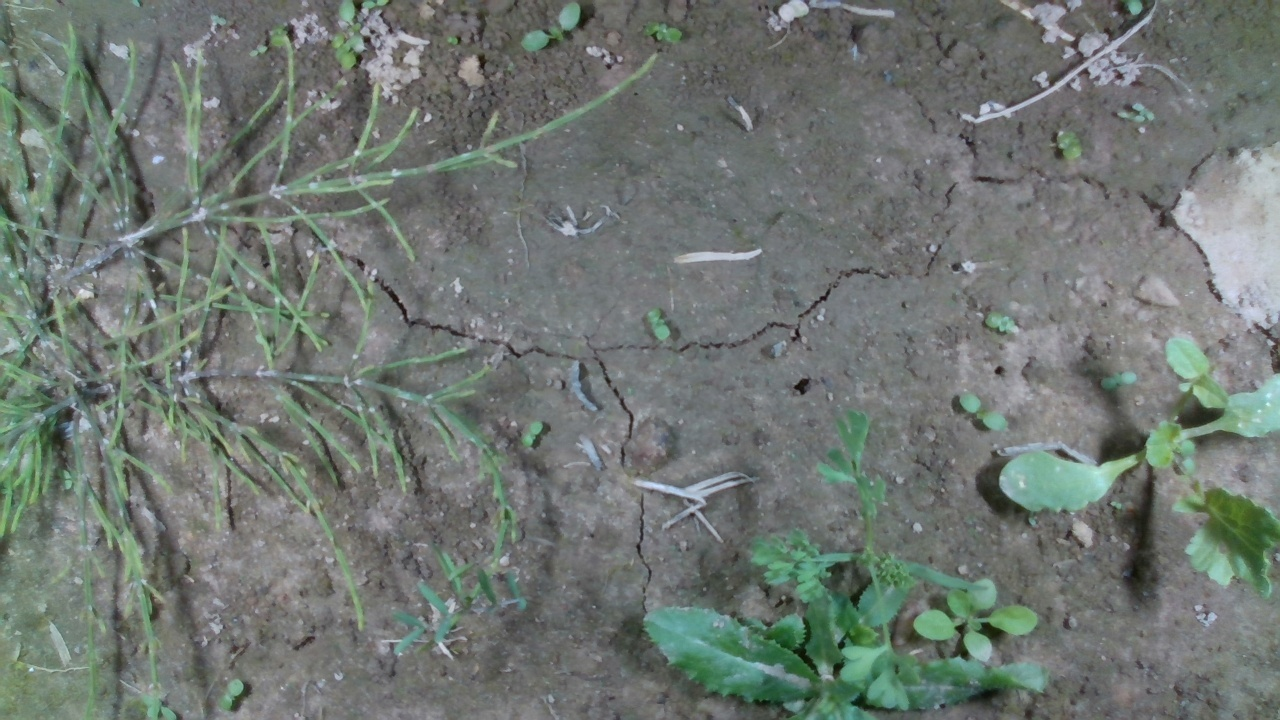weed: (518, 1, 582, 53), (957, 391, 1010, 432), (641, 19, 684, 43), (218, 676, 246, 712), (983, 311, 1021, 335), (645, 306, 671, 340), (1055, 128, 1083, 159), (520, 418, 545, 449), (1101, 369, 1138, 389), (445, 35, 461, 46)
